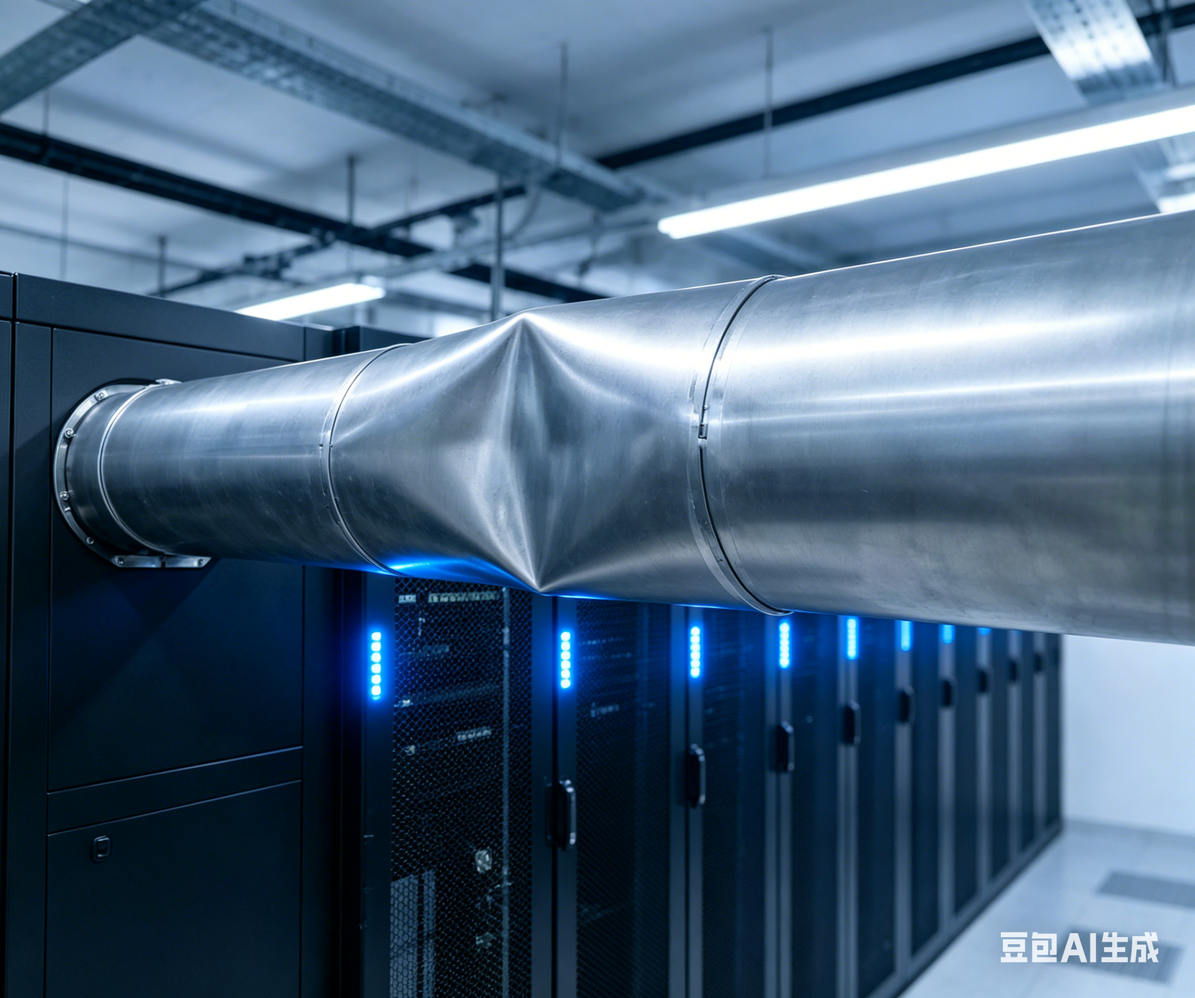Leakage: (398, 297, 679, 597)
